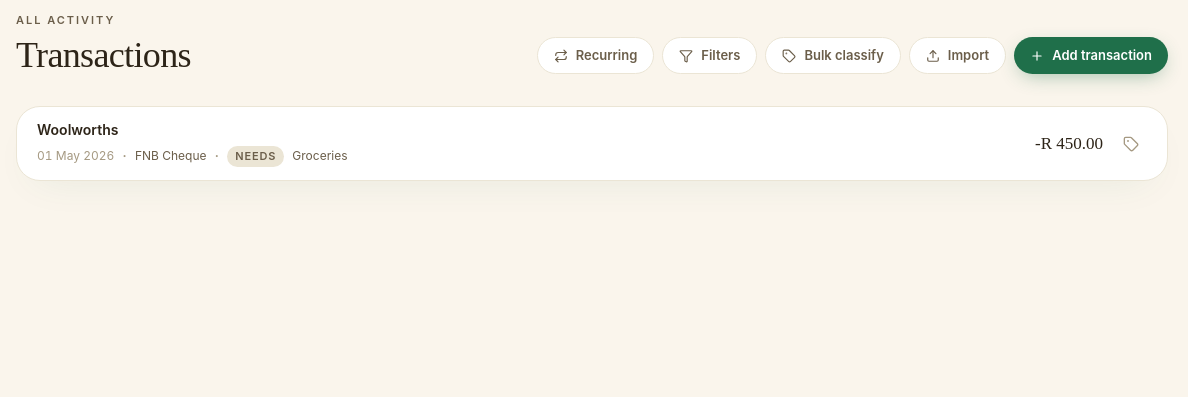
Test: TransactionsPage › toggles the filters panel when the Filters button is clicked
Expected: the text "account" is not shown
Click the button "Filters" at {"x": 710, "y": 56}, box x1=662 y1=37 x2=757 y2=74
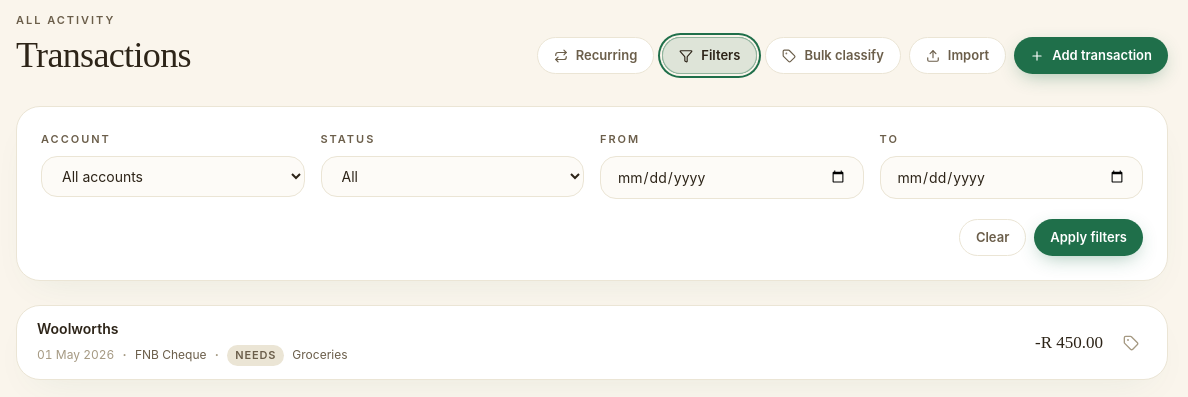
Now the text "Account" is shown, box x1=41 y1=132 x2=111 y2=146
Now the text "Status" is shown, box x1=320 y1=132 x2=375 y2=146
